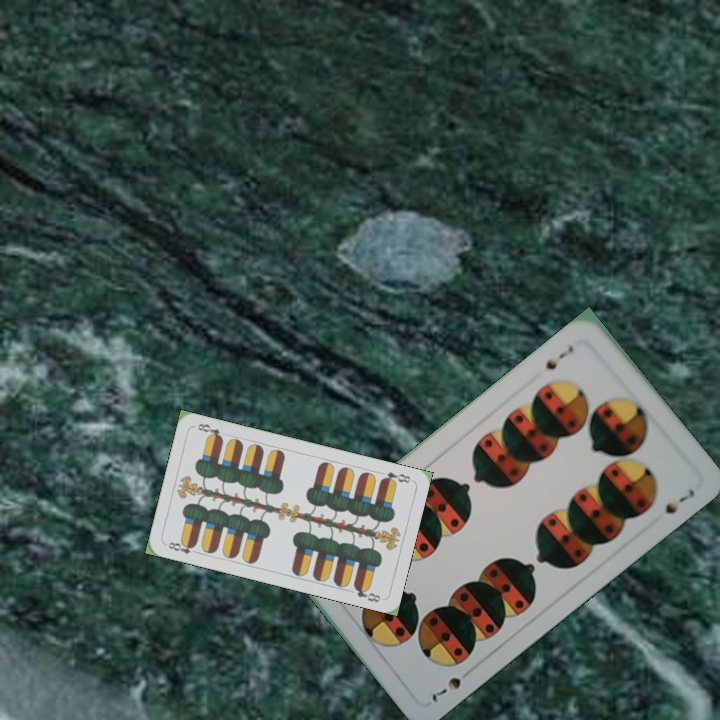E8: (164, 537, 202, 557), (377, 468, 413, 487)
S7: (427, 663, 476, 705), (541, 341, 577, 373)
